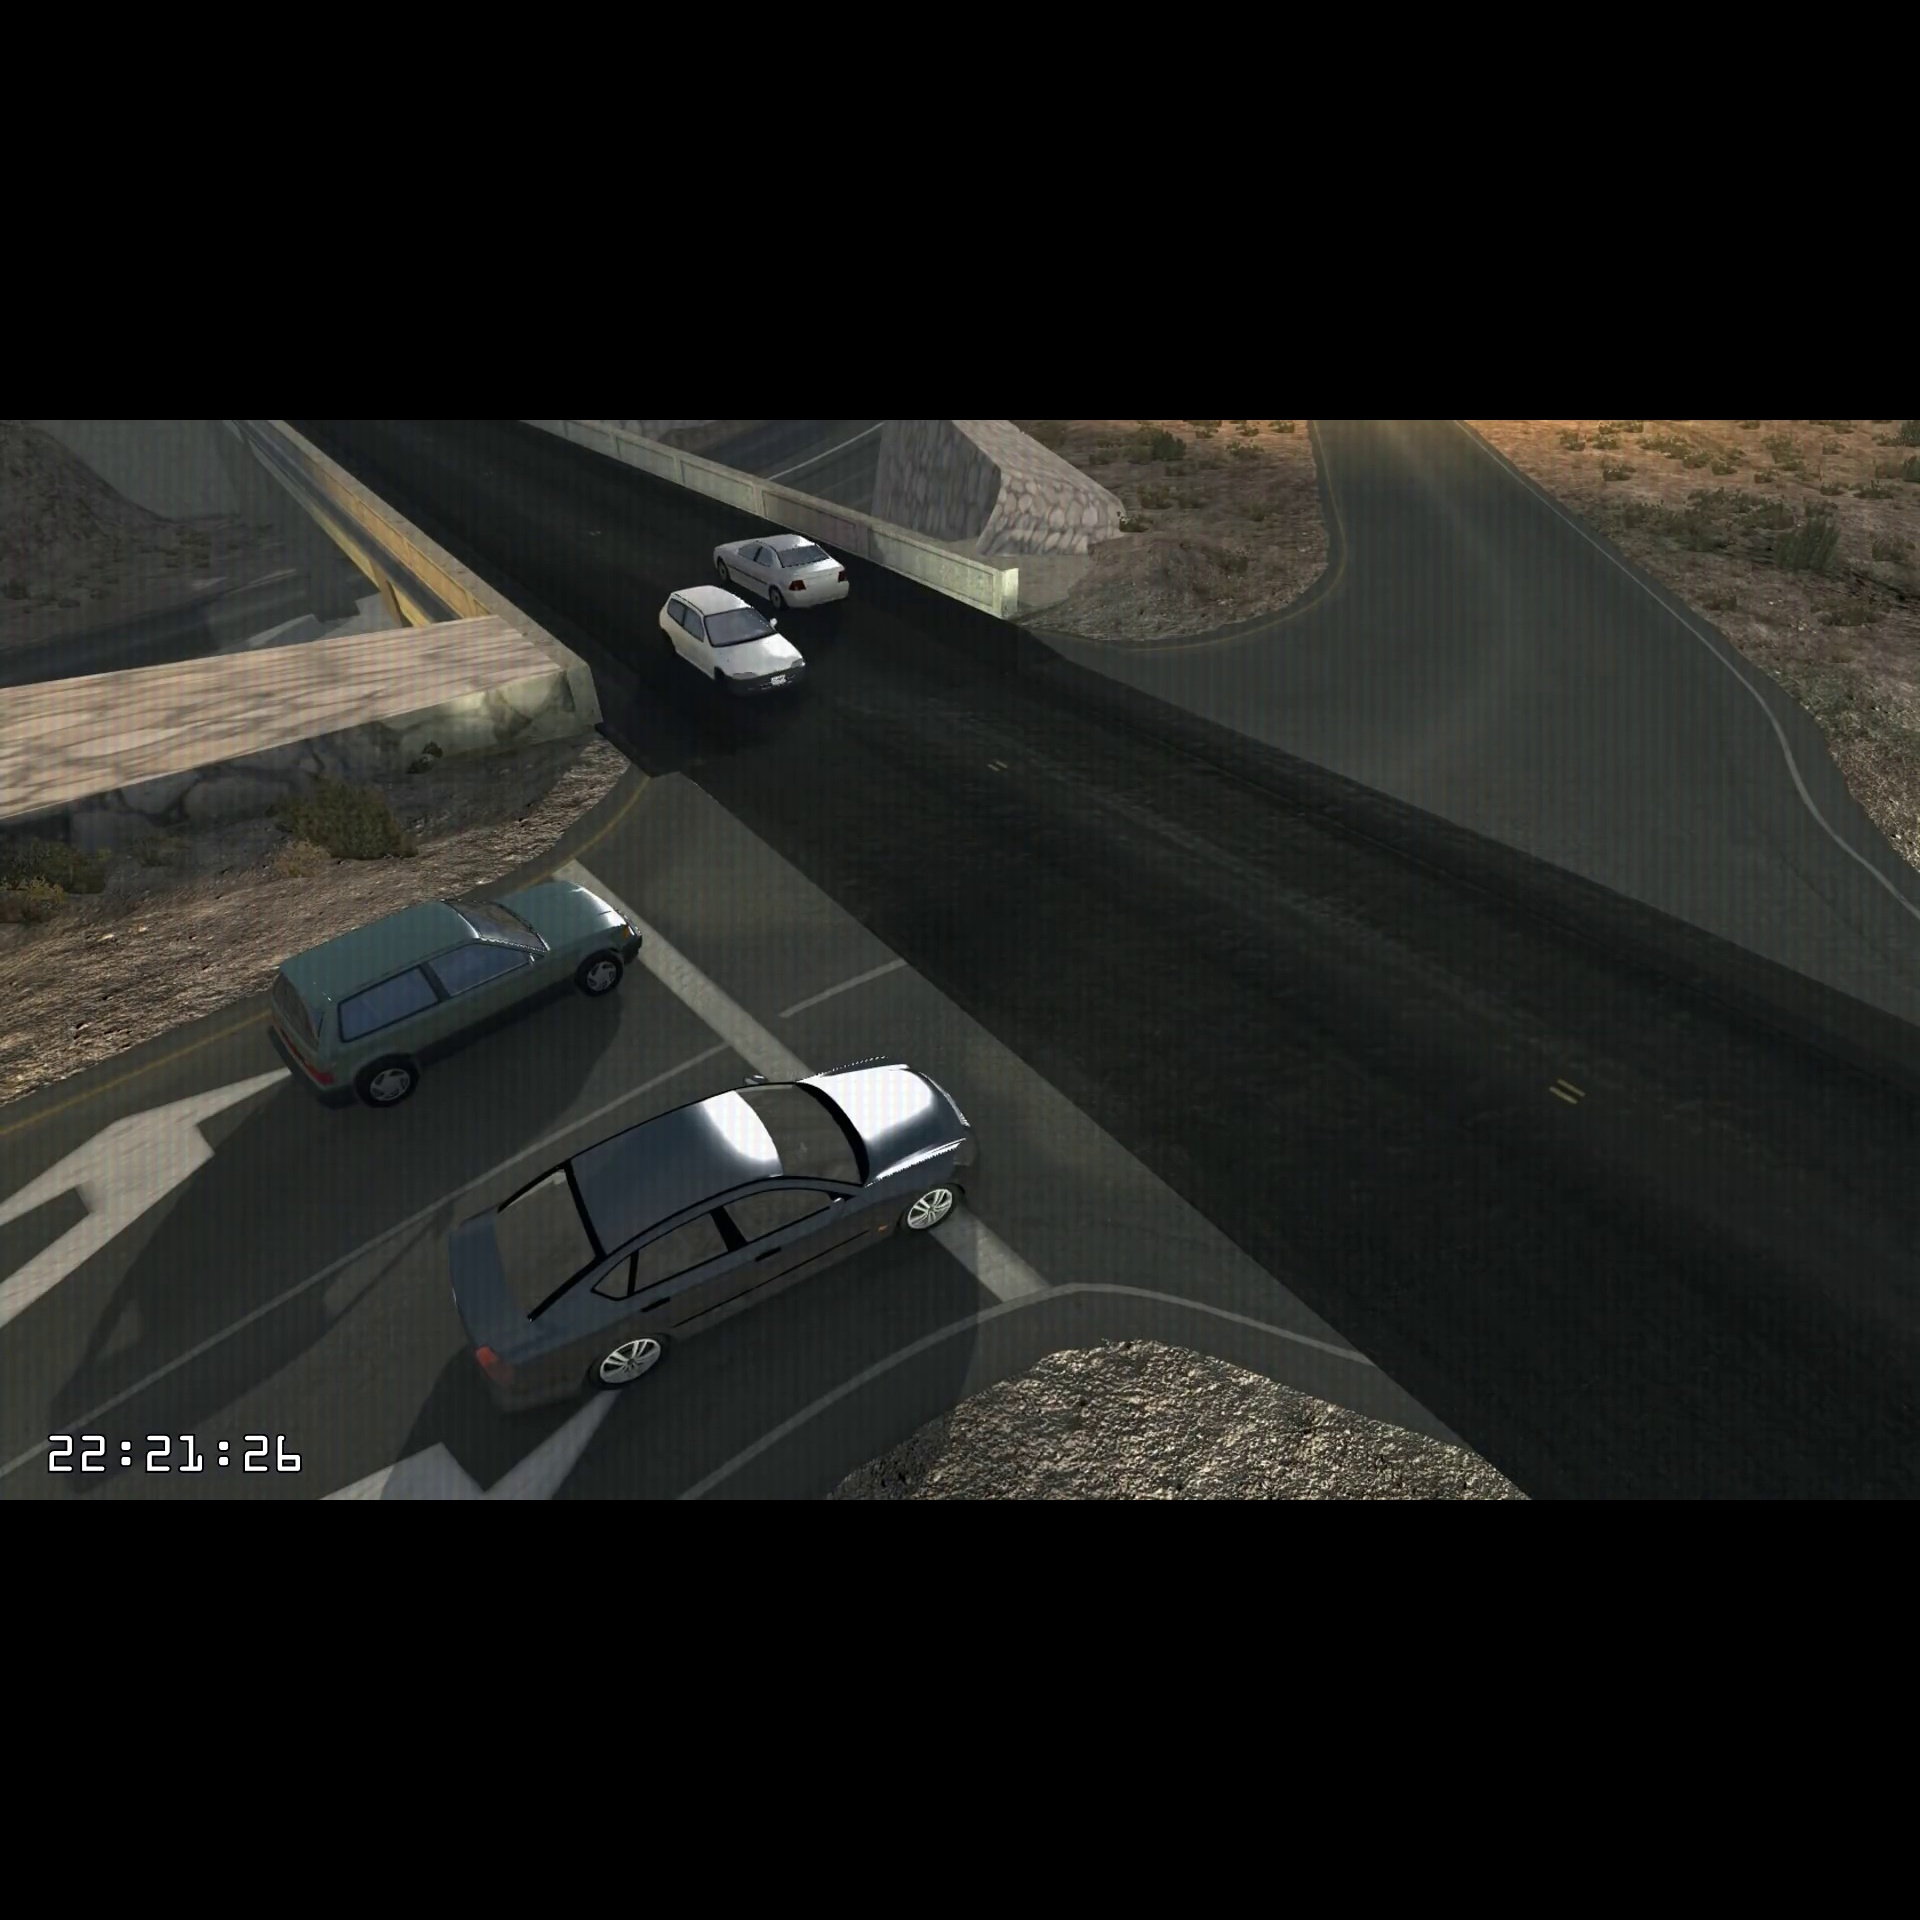vehicle: (441, 1048, 988, 1422), (258, 863, 652, 1122), (654, 584, 812, 705), (707, 522, 853, 614)
